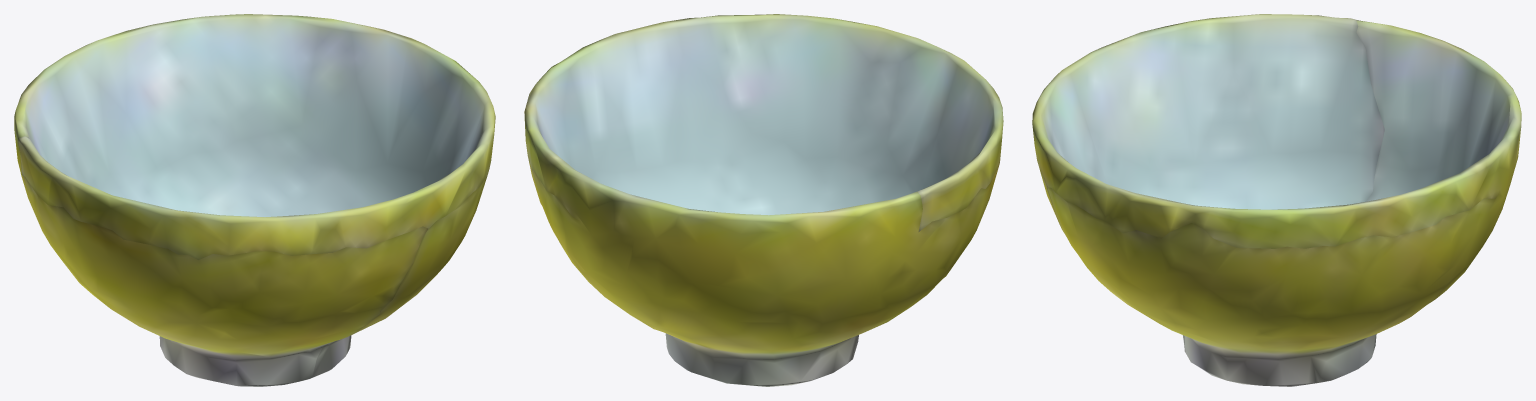
File: Cole_Hardware_Bowl_Scirocco_YellowBlue-medium.glb
3 views of the same model, side by side, from view 1: azimuth 30°, elevation 25°; view 2: azimuth 150°, elevation 25°; view 3: azimuth 270°, elevation 25° (orthographic).
Parts seen in each view (by area): view 1: Cole_Hardware_Bowl_Scirocco_YellowBlue; view 2: Cole_Hardware_Bowl_Scirocco_YellowBlue; view 3: Cole_Hardware_Bowl_Scirocco_YellowBlue.
Boxes of the visible parts, bbox=[...] form: Cole_Hardware_Bowl_Scirocco_YellowBlue: bbox=[14, 14, 495, 386]; Cole_Hardware_Bowl_Scirocco_YellowBlue: bbox=[524, 14, 1003, 386]; Cole_Hardware_Bowl_Scirocco_YellowBlue: bbox=[1032, 14, 1521, 386].
Size of the model in its own units: 0.1135 by 0.0618 by 0.1147.
1 material, 1 textured.
